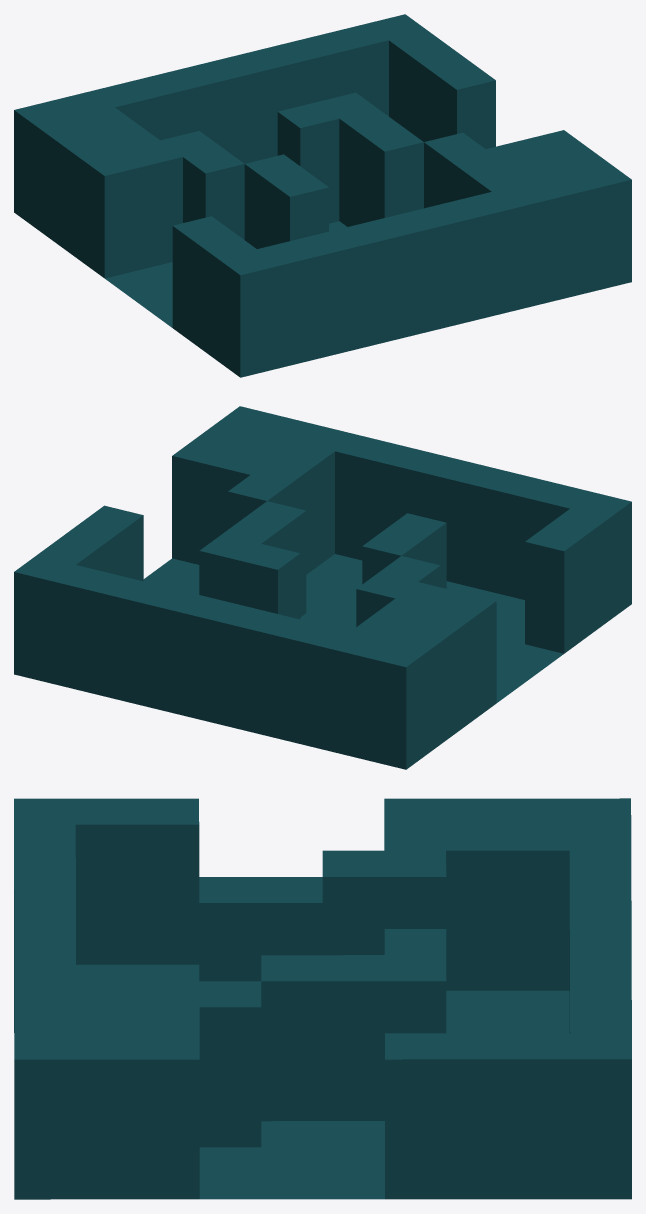
The model's file is NorthSouthExits.fbx.
3 renders of one model, top to bottom at view 1: azimuth 30°, elevation 25°; view 2: azimuth 150°, elevation 25°; view 3: azimuth 270°, elevation 25°, orthographic. The views are drawn at different scales.
Visible parts, largest first — view 1: Plane; view 2: Plane; view 3: Plane.
Boxes of the visible parts, bbox=[...] form: Plane: bbox=[14, 14, 631, 377]; Plane: bbox=[14, 406, 631, 769]; Plane: bbox=[14, 798, 631, 1199].
Size of the model in its own units: 1602 by 400 by 1602.
